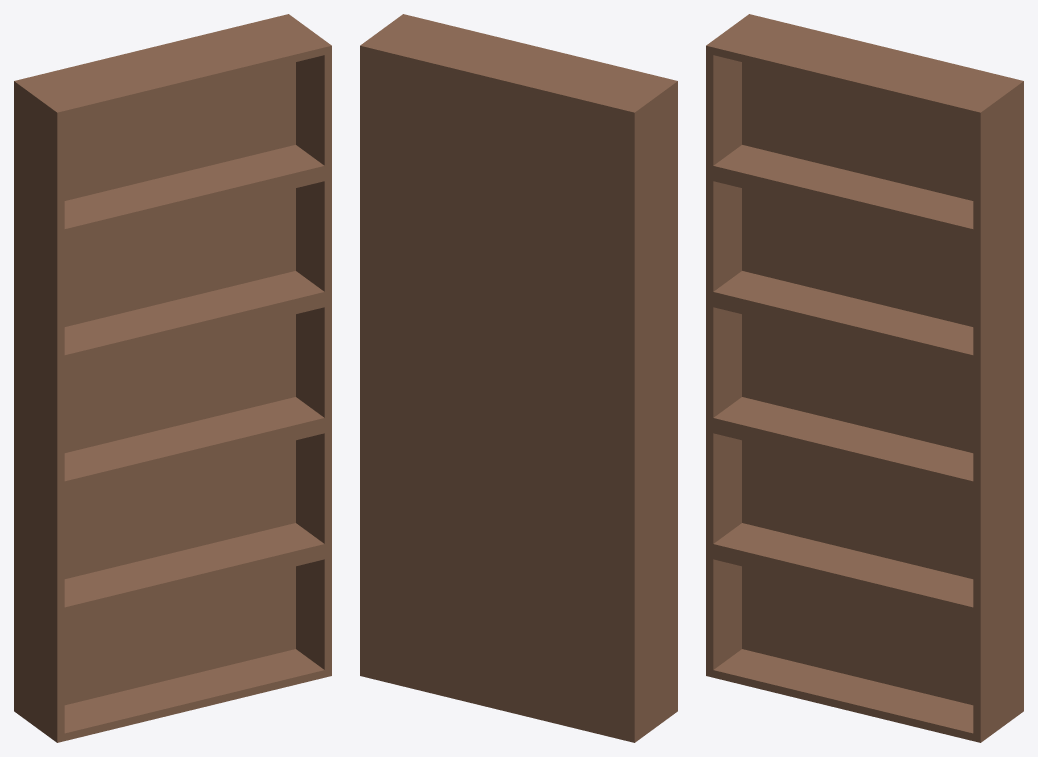
File: Shelf.fbx
3 renders of one model, left to right at view 1: azimuth 30°, elevation 25°; view 2: azimuth 150°, elevation 25°; view 3: azimuth 330°, elevation 25°, orthographic.
Parts seen in each view (by area): view 1: ShelfResized; view 2: ShelfResized; view 3: ShelfResized.
Part boxes in pixels (x1,y1,x2,y2): ShelfResized: (14, 14, 331, 742); ShelfResized: (360, 14, 677, 742); ShelfResized: (706, 14, 1023, 742).
Size of the model in its own units: 19.19 by 42.07 by 5.23.
